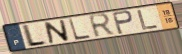L: (22, 23, 48, 48), (68, 17, 93, 42), (136, 9, 160, 31)
N: (43, 19, 71, 45)
P: (111, 9, 135, 35)
R: (87, 12, 117, 40)
